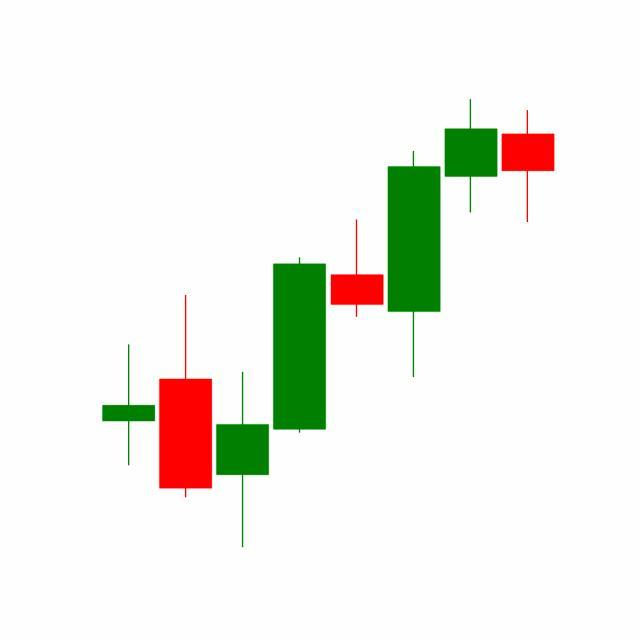Three Outside Up-Down: (328, 100, 500, 383)
